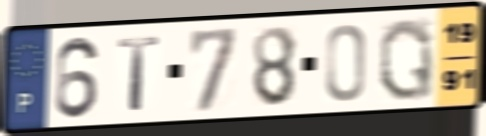0: (323, 21, 369, 104)
6: (53, 32, 101, 121)
7: (187, 24, 240, 115)
8: (249, 24, 298, 109)
Q: (377, 15, 436, 104)
T: (115, 33, 164, 113)
